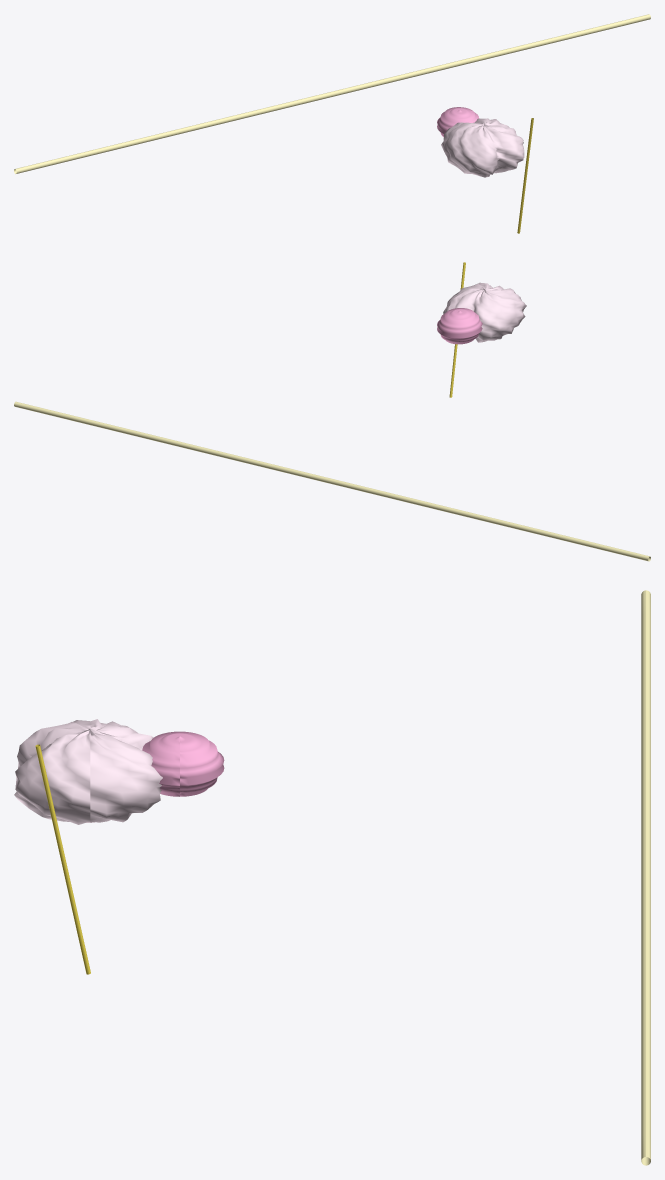
The model's file is nervous.glb.
3 views of the same model, one above another, from view 1: azimuth 30°, elevation 25°; view 2: azimuth 150°, elevation 25°; view 3: azimuth 270°, elevation 25° (orthographic). The views are drawn at different scales.
Visible parts, largest first — view 1: Mesh_Camelid_MedullaSpinalis, Mesh_Camelid_Cerebrum, Mesh_Camelid_Cerebellum, Mesh_Camelid_NervusFacialis; view 2: Mesh_Camelid_MedullaSpinalis, Mesh_Camelid_Cerebrum, Mesh_Camelid_Cerebellum; view 3: Mesh_Camelid_Cerebrum, Mesh_Camelid_MedullaSpinalis, Mesh_Camelid_Cerebellum, Mesh_Camelid_NervusFacialis.
Boxes of the visible parts, box(x1,y1,x2,y2) form: Mesh_Camelid_MedullaSpinalis: box(14, 14, 650, 173); Mesh_Camelid_Cerebrum: box(441, 118, 524, 177); Mesh_Camelid_Cerebellum: box(437, 107, 479, 137); Mesh_Camelid_NervusFacialis: box(517, 118, 533, 233); Mesh_Camelid_MedullaSpinalis: box(14, 401, 650, 561); Mesh_Camelid_Cerebrum: box(443, 282, 526, 342); Mesh_Camelid_Cerebellum: box(437, 308, 482, 344); Mesh_Camelid_Cerebrum: box(14, 719, 162, 824); Mesh_Camelid_MedullaSpinalis: box(641, 590, 650, 1165); Mesh_Camelid_Cerebellum: box(142, 731, 224, 796); Mesh_Camelid_NervusFacialis: box(35, 744, 90, 974).
Size of the model in its own units: 1.5 by 0.2814 by 0.7104.
